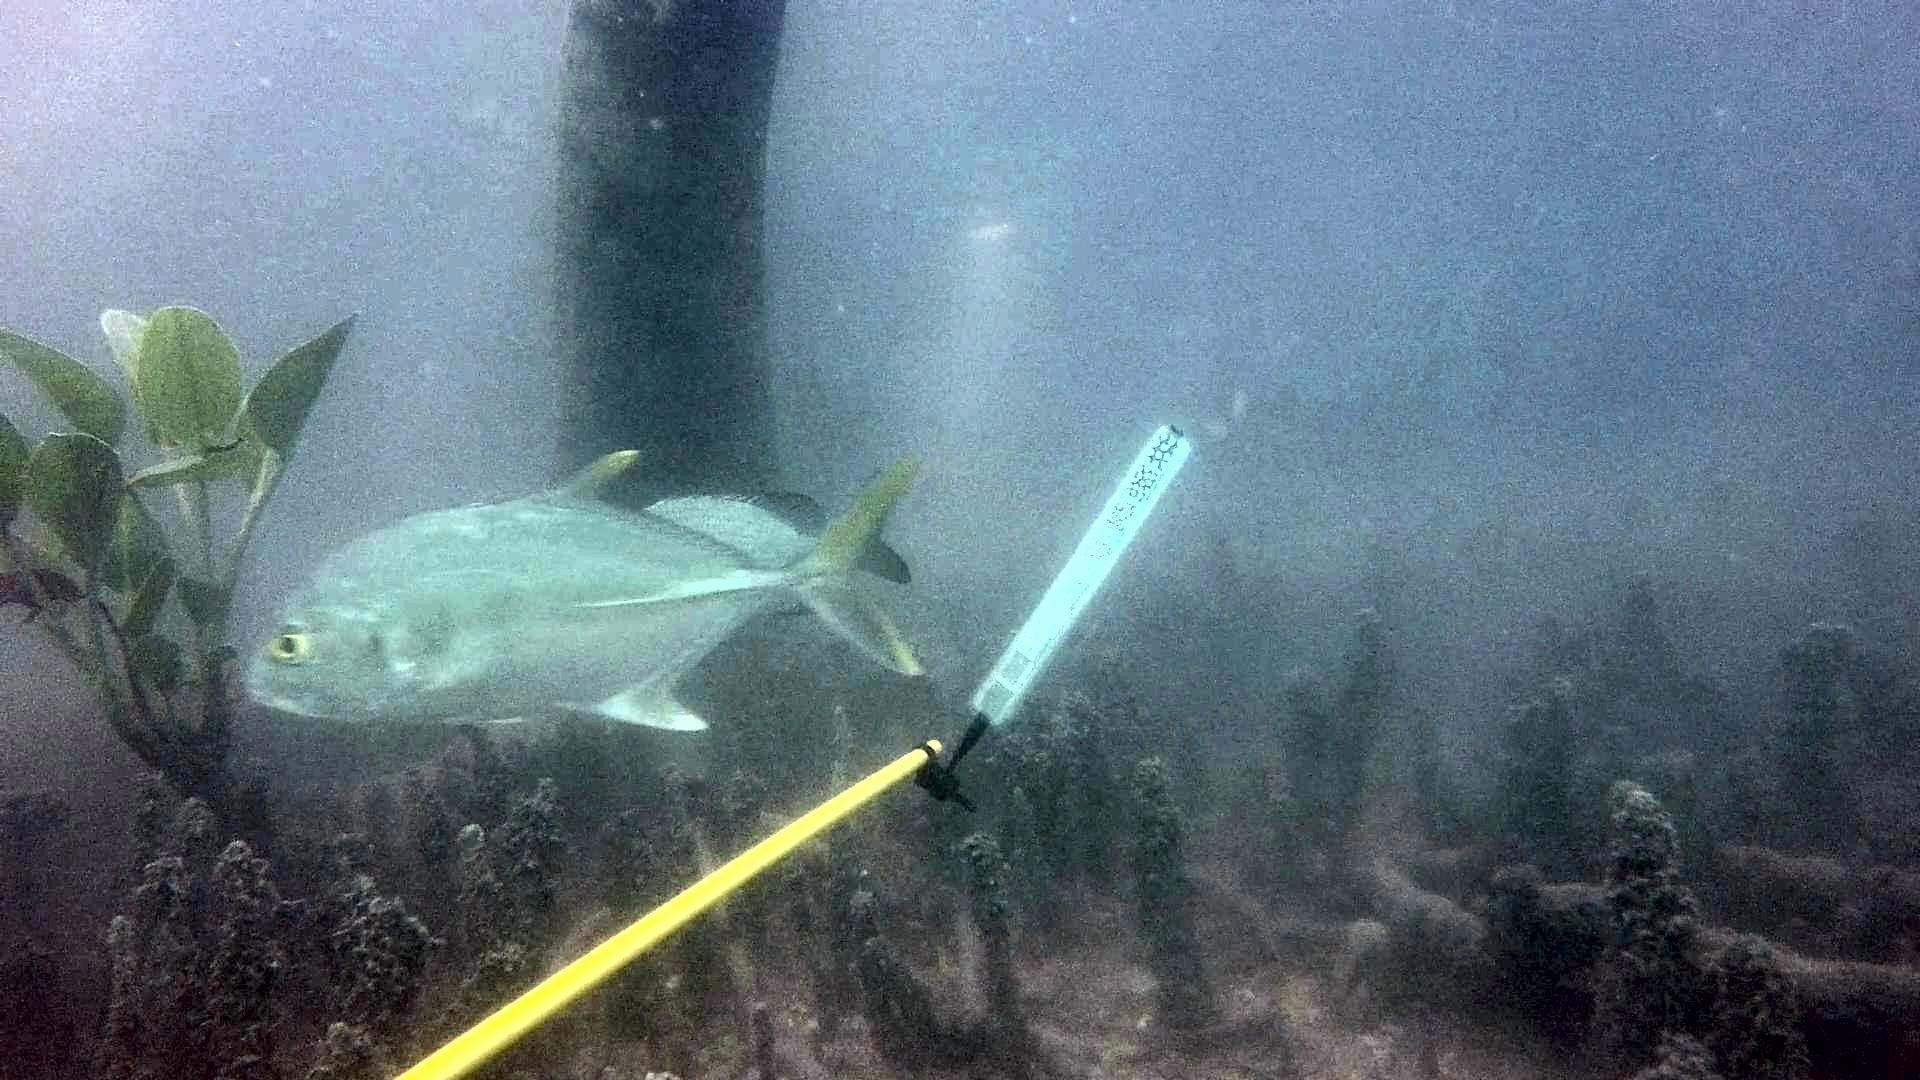acanthopagrus palmaris: (625, 479, 932, 628)
caranx: (233, 443, 927, 737)
